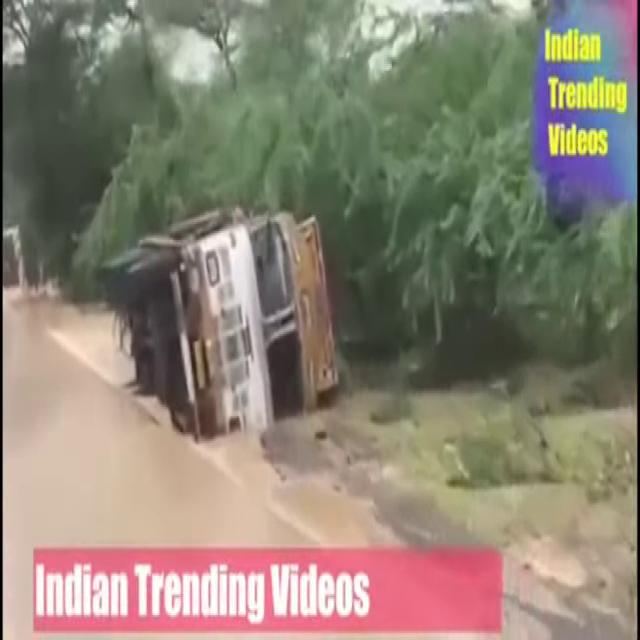accident: (97, 167, 363, 456)
